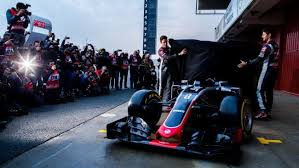f1_car: (100, 71, 259, 161)
